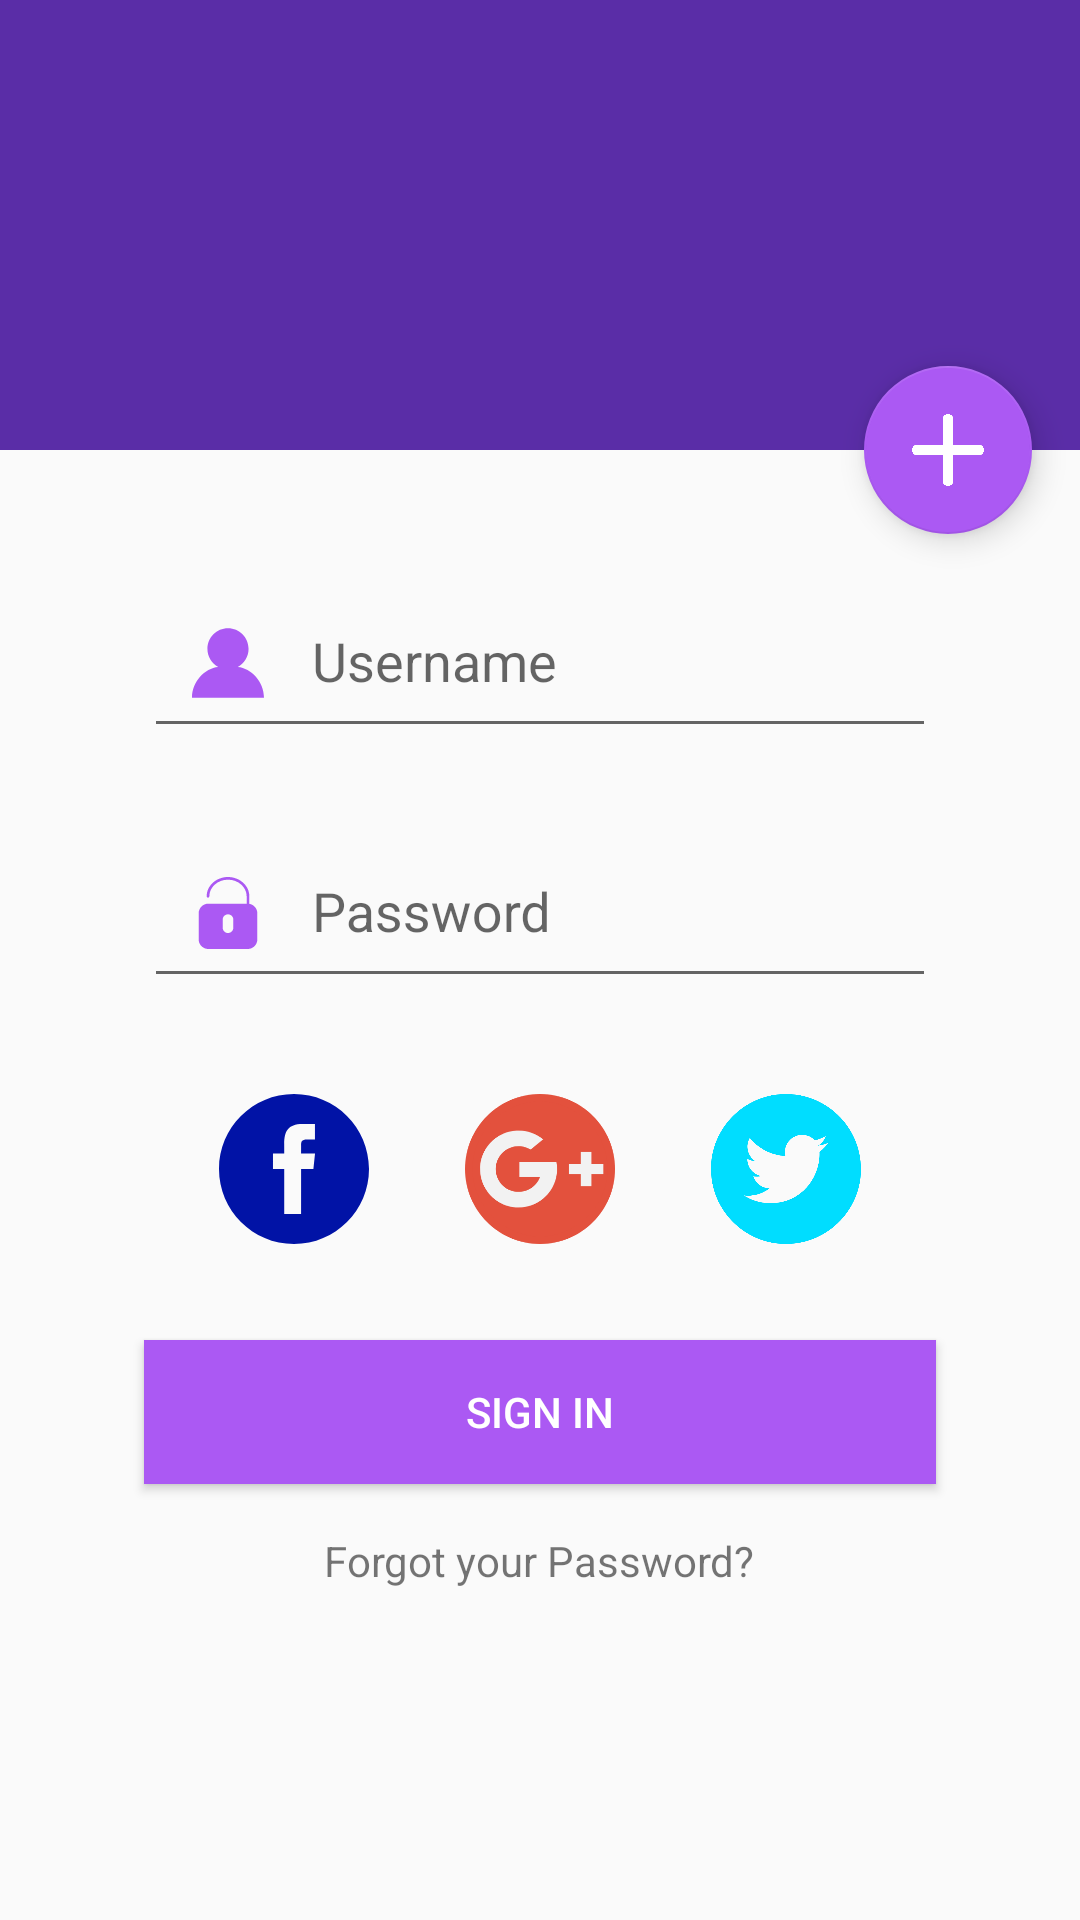

Icon click points for this 1080x1920 phone screenshot, format point (x, y):
add: point (948, 450)
